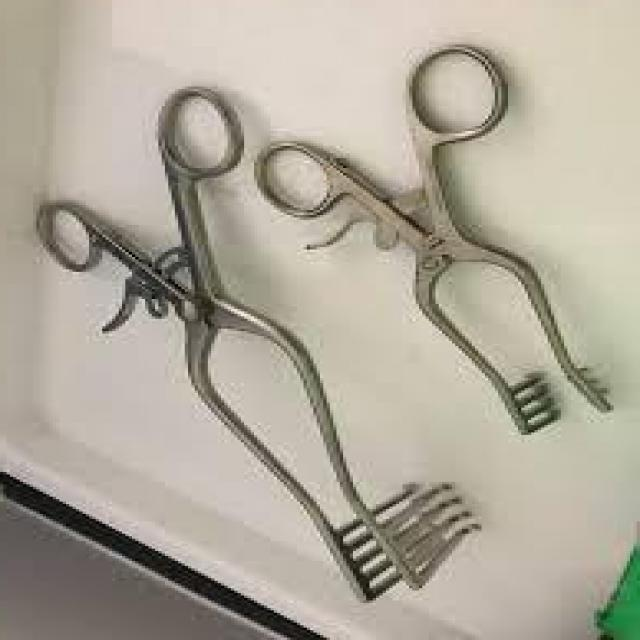Weitlaner: (29, 84, 488, 608), (247, 39, 617, 440)
